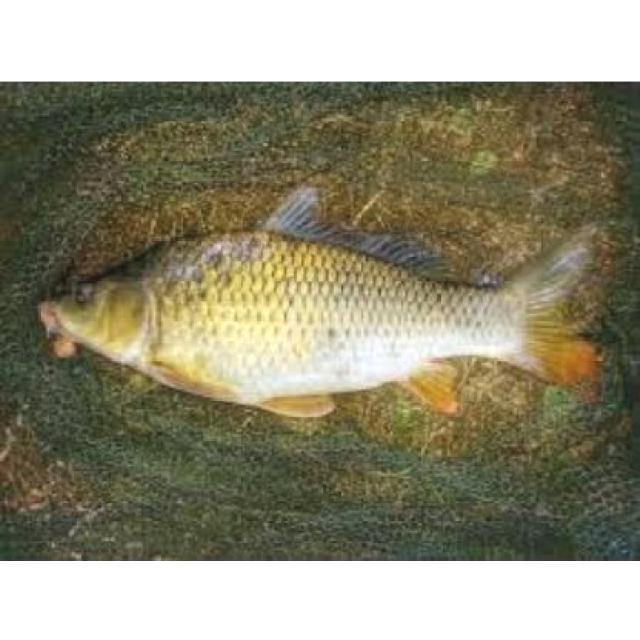ikan-mas: (36, 181, 595, 425)
